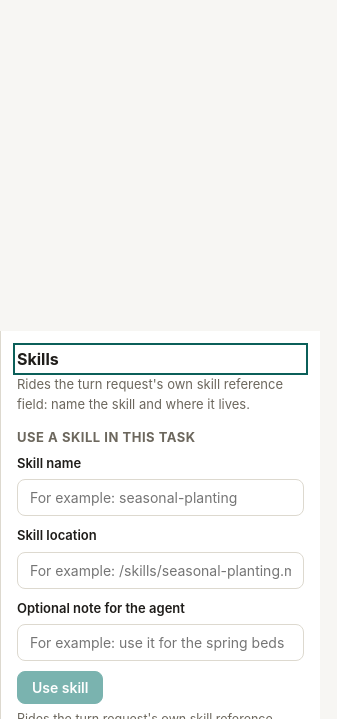
the skills surface › surfaces a failed reference with a named error, never silently
The image size is (337, 719).
(page scrolled)
In the field with test id "skill-name-input": (160, 498) [17,479,304,516], type "s"
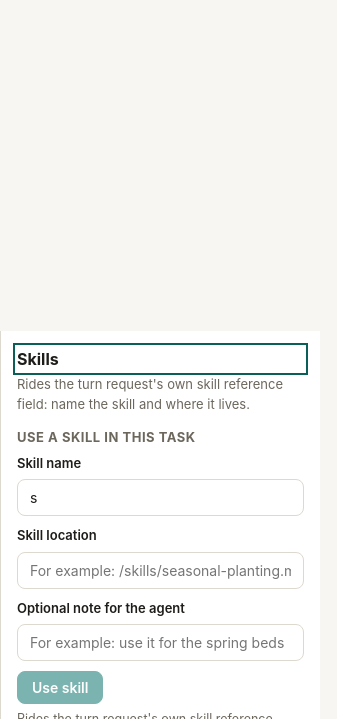
In the field with test id "skill-path-input": (160, 570) [17,552,304,588], type "/s.md"
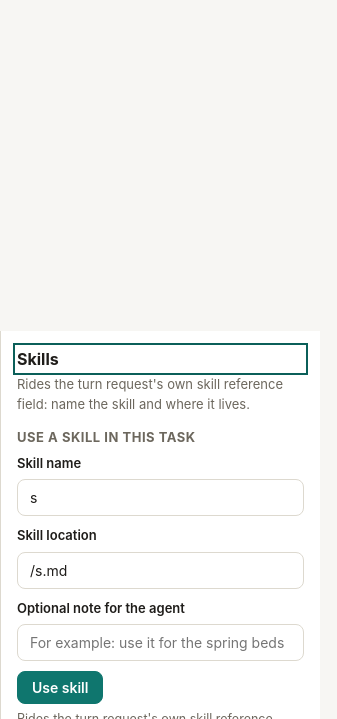
Click the button with test id "skill-use-button": click(60, 688) [17,671,104,704]
(page scrolled)
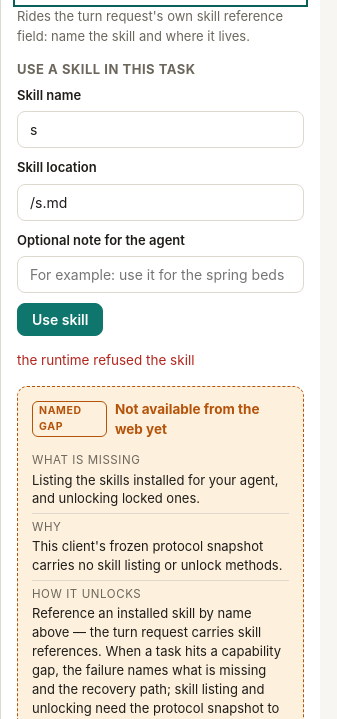
Expected: the message reads "the runtime refused the skill", [17,352,194,368]
